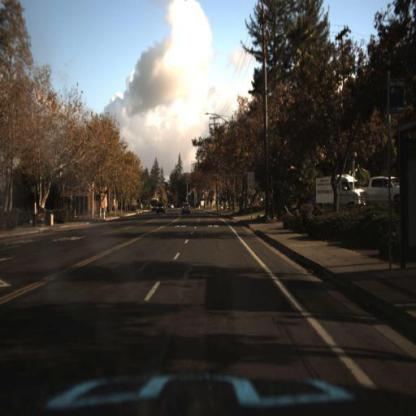car: (358, 174, 402, 207), (335, 170, 365, 212), (180, 202, 192, 218), (156, 201, 167, 217)
pedestrian: (103, 205, 105, 215)
truck: (150, 197, 159, 215)
